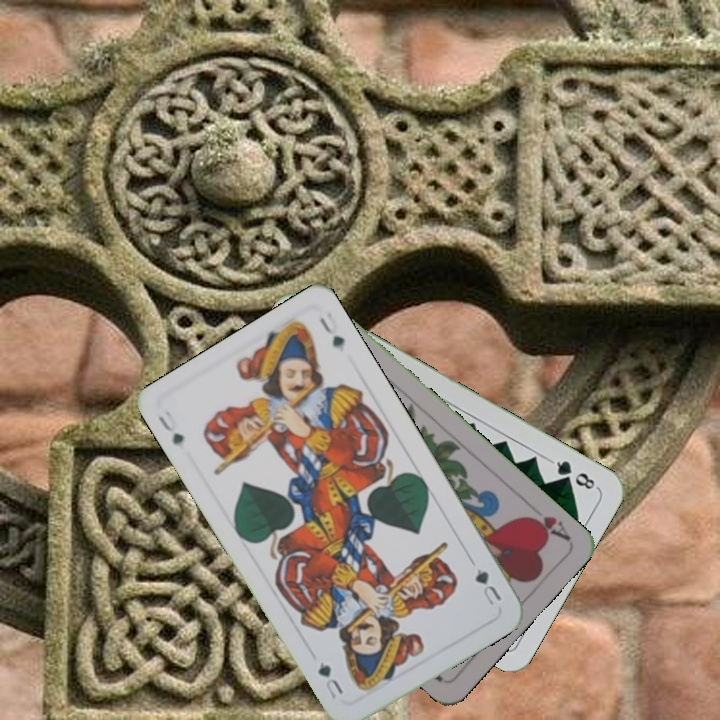G8: (546, 456, 600, 492)
GU: (471, 564, 504, 608), (154, 406, 187, 448)
HA: (520, 511, 573, 544)
